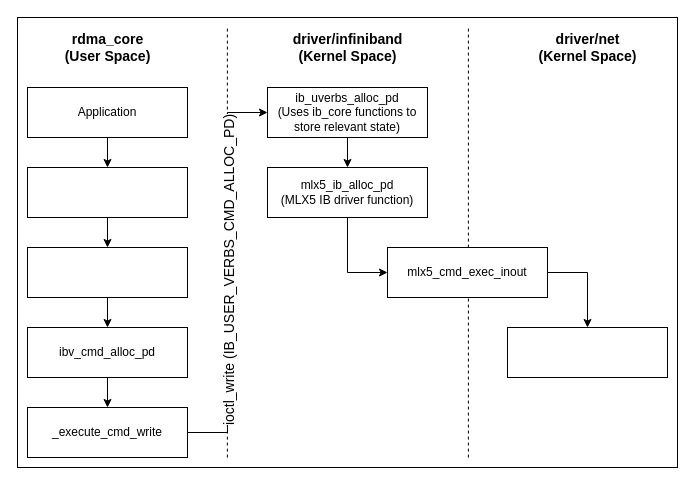
This 695x485 diagram has some shape labels left out. The shapes that lost their labels are listed below. From the top down, each one's box as (x1, y1, x2, y2) in pixels, then its label:
(26, 166, 188, 218): ibv_alloc_pd [ibv_alloc_pd_1_1]
(26, 246, 188, 298): mlx5_alloc_pd (provider function)
(506, 326, 668, 378): mlx5_cmd_exec
